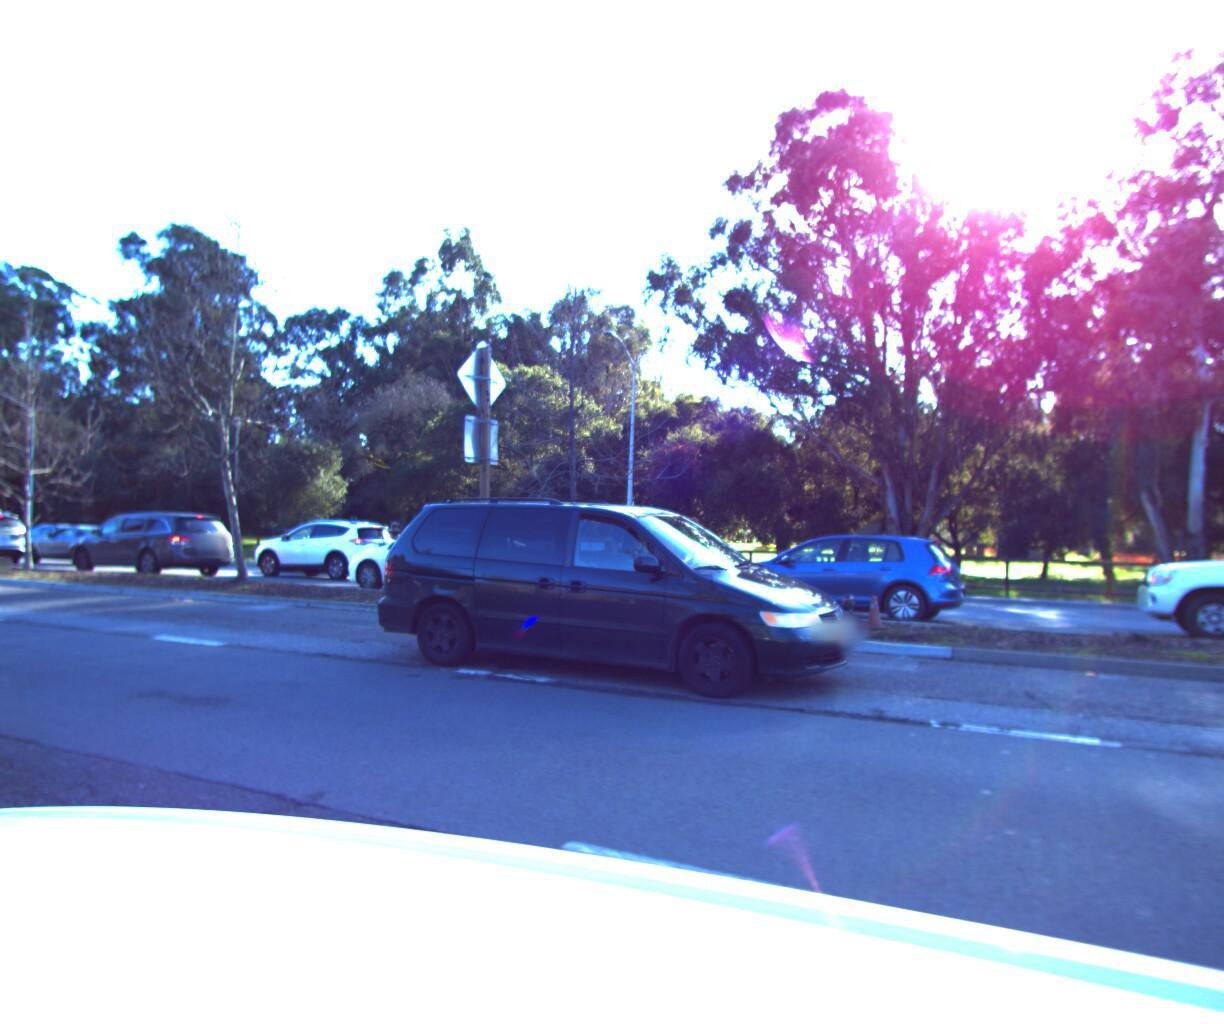car: (350, 481, 861, 707), (684, 519, 977, 628), (319, 516, 568, 601), (1128, 506, 1224, 679), (50, 503, 239, 576), (245, 514, 411, 579), (0, 518, 135, 561), (0, 499, 34, 562)
